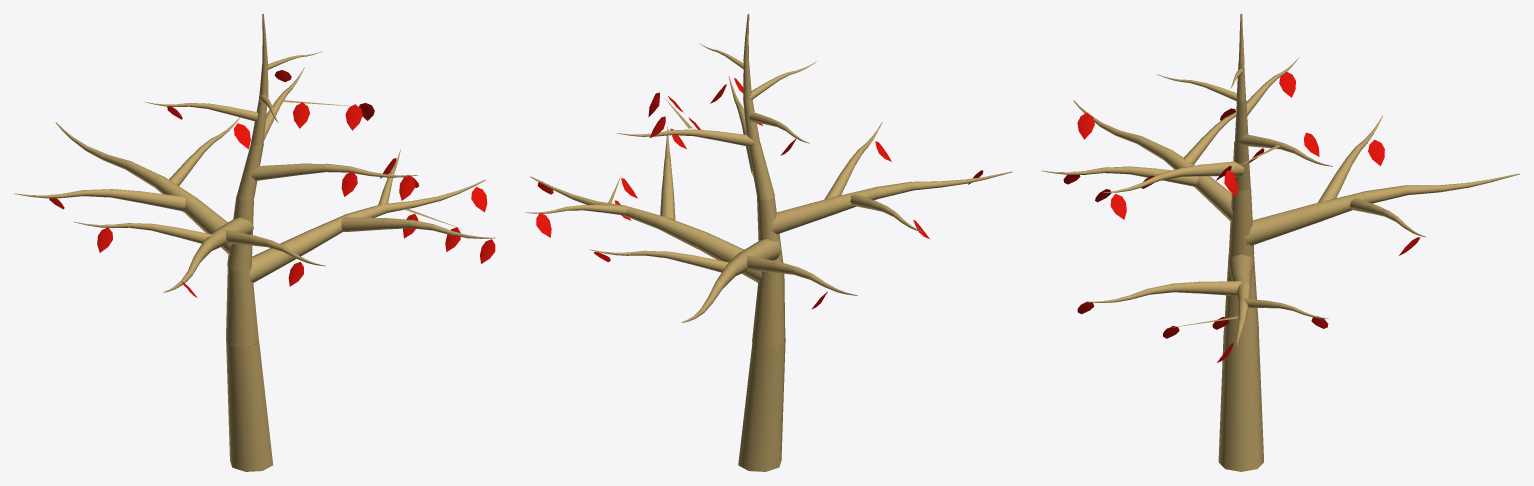
The model's file is oaktree.obj.
The picture shows the model from 3 angles, left to right: view 1: azimuth 30°, elevation 25°; view 2: azimuth 150°, elevation 25°; view 3: azimuth 270°, elevation 25°; orthographic projection.
Visible parts, largest first — view 1: Base_1, Base_2, Base_1_1, Base_3, Base_1_2, Base_4, Base_1_10, Base_1_4, Base_2_1, Base_1_9; view 2: Base_1, Base_2, Base_1_3, Base_1_1, Base_4, Base_3, Base_2_1, Base_1_2; view 3: Base_1, Base_1_2, Base_3, Base_2, Base_1_3, Base_2_2, Base_4, Base_1_9, Base_3_2.
Boxes of the visible parts, x1=… form: Base_1: x1=226, y1=339, x2=273, y2=471; Base_2: x1=226, y1=266, x2=258, y2=346; Base_1_1: x1=249, y1=232, x2=314, y2=282; Base_3: x1=227, y1=195, x2=253, y2=271; Base_1_2: x1=183, y1=197, x2=231, y2=255; Base_4: x1=237, y1=143, x2=263, y2=200; Base_1_10: x1=138, y1=191, x2=185, y2=211; Base_1_4: x1=251, y1=164, x2=298, y2=180; Base_2_1: x1=306, y1=215, x2=348, y2=247; Base_1_9: x1=341, y1=217, x2=385, y2=231; Base_1: x1=738, y1=338, x2=785, y2=471; Base_2: x1=752, y1=271, x2=785, y2=346; Base_1_3: x1=771, y1=197, x2=838, y2=234; Base_1_1: x1=696, y1=232, x2=762, y2=282; Base_4: x1=748, y1=142, x2=774, y2=200; Base_3: x1=757, y1=197, x2=783, y2=262; Base_2_1: x1=657, y1=216, x2=704, y2=248; Base_1_2: x1=738, y1=239, x2=781, y2=260; Base_1: x1=1218, y1=331, x2=1263, y2=471; Base_1_2: x1=1245, y1=203, x2=1322, y2=245; Base_3: x1=1229, y1=187, x2=1254, y2=256; Base_2: x1=1224, y1=253, x2=1258, y2=337; Base_1_3: x1=1194, y1=176, x2=1233, y2=222; Base_2_2: x1=1318, y1=191, x2=1366, y2=220; Base_4: x1=1233, y1=141, x2=1250, y2=190; Base_1_9: x1=1198, y1=281, x2=1241, y2=295; Base_3_2: x1=1363, y1=185, x2=1408, y2=203.
Size of the model in its own units: 5.5 by 5.81 by 5.56.
